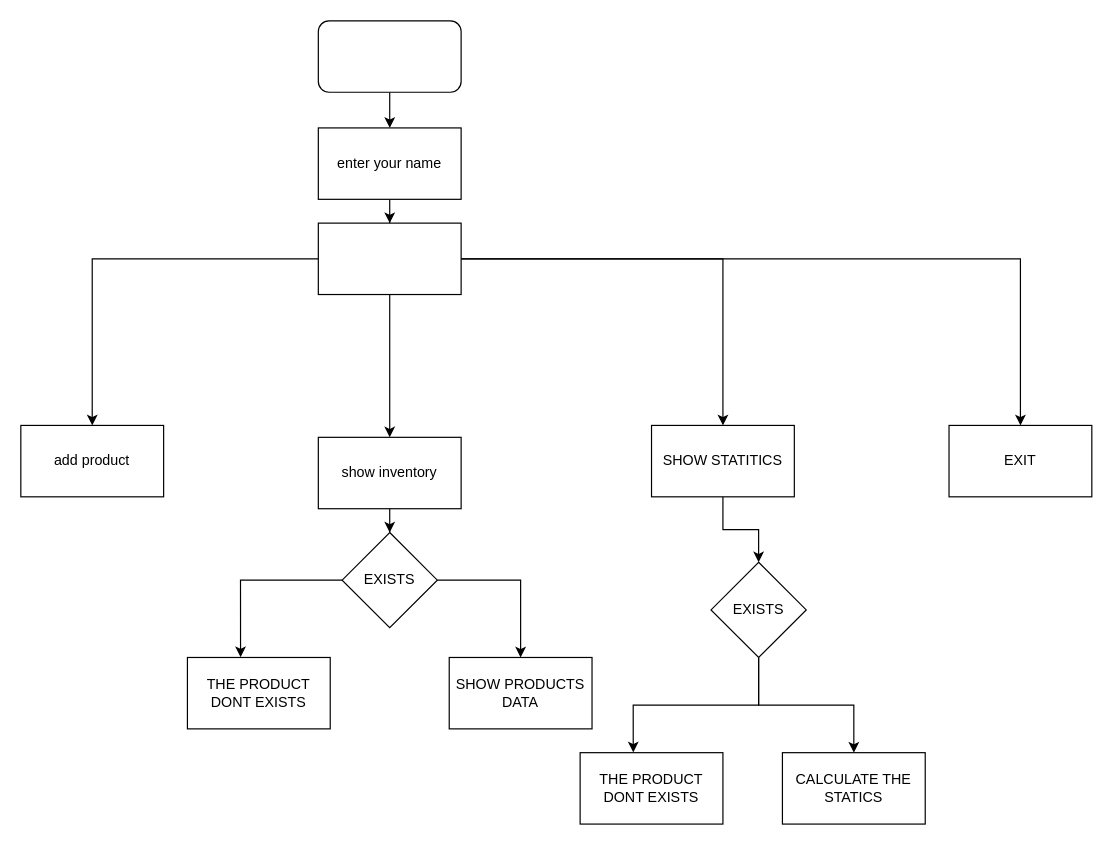
Some shapes in this 1113 by 845 pixel diagram are drawn without their labels. Here are the shapes that lost their labels. From the top down, the centre of each, then its label:
At [389,56]: "init".
At [389,258]: "menu".
